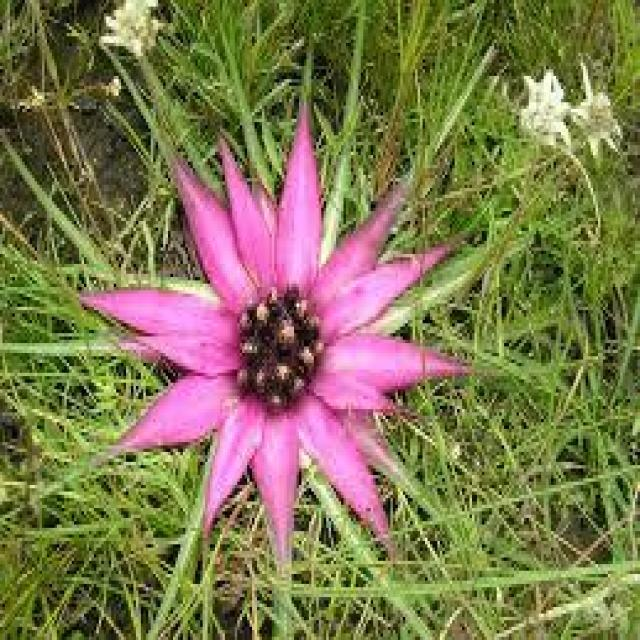organic waste: (94, 114, 467, 546)
